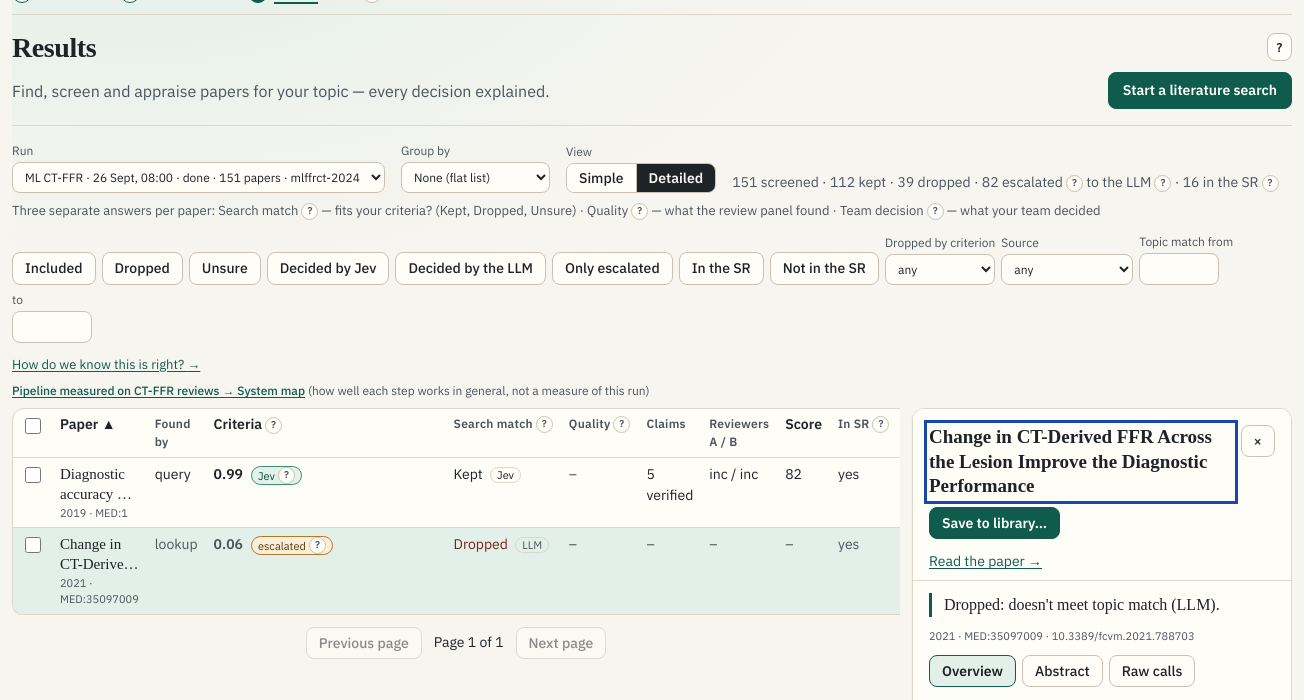
paper drawer › explains an unavailable audit trail instead of failing silently
Expected: the heading "Change in CT-Derived FFR" is shown, [929,425,1233,499]
Click the button "Raw calls". click: (1152, 671)
box: [1109,655,1195,687]
(page scrolled)
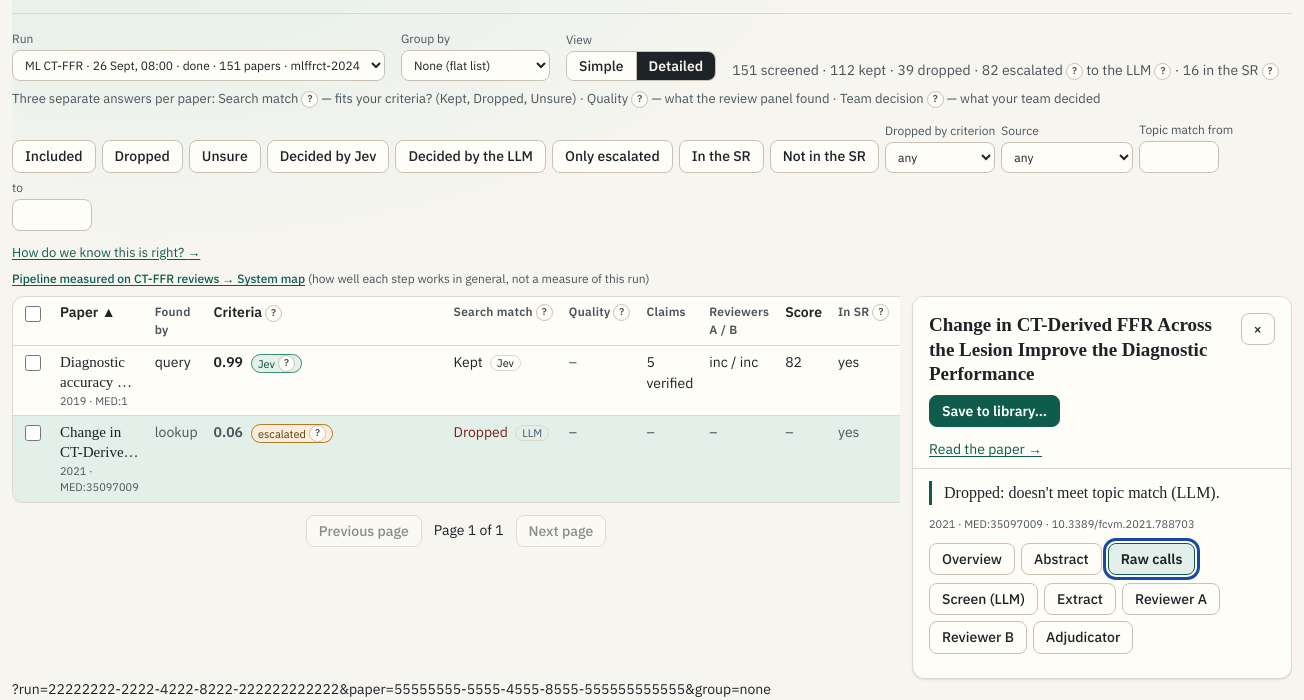
Click the button "Screen (LLM)". click: (984, 599)
box: [929,583,1038,615]
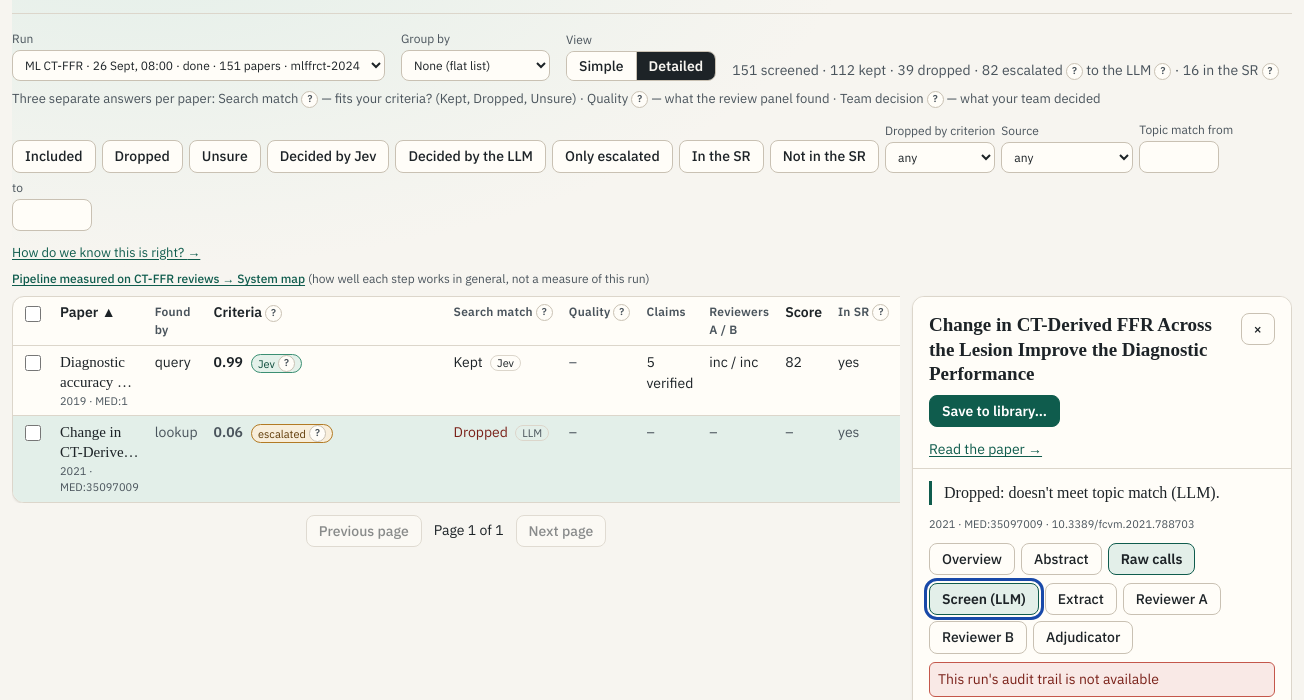
Now the message shows "audit trail is not available", box [938,670,1159,688]
